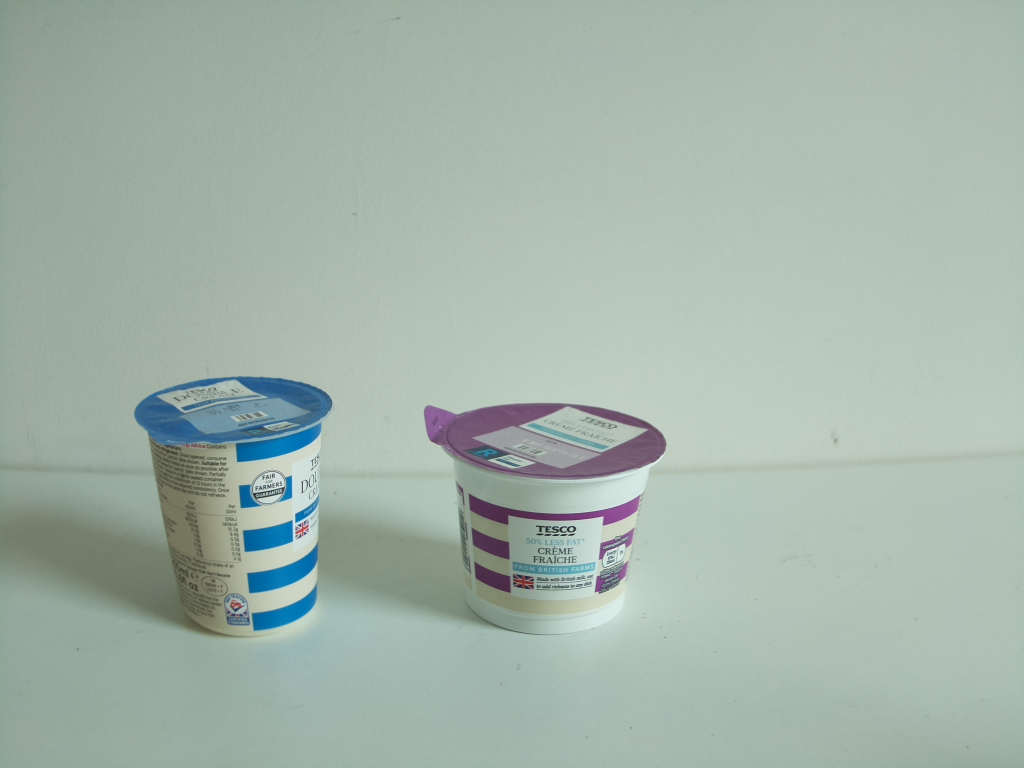cream: (424, 398, 668, 635), (133, 375, 338, 640)
